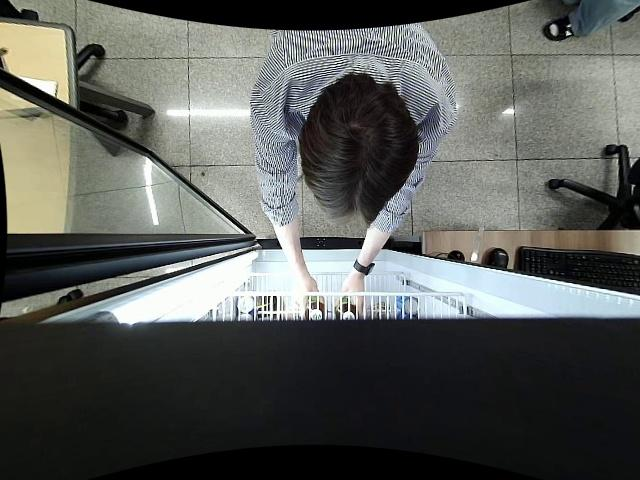00_hand: (292, 272, 325, 320), (335, 276, 366, 319)
19_17cha: (336, 296, 357, 320), (305, 295, 324, 320)
